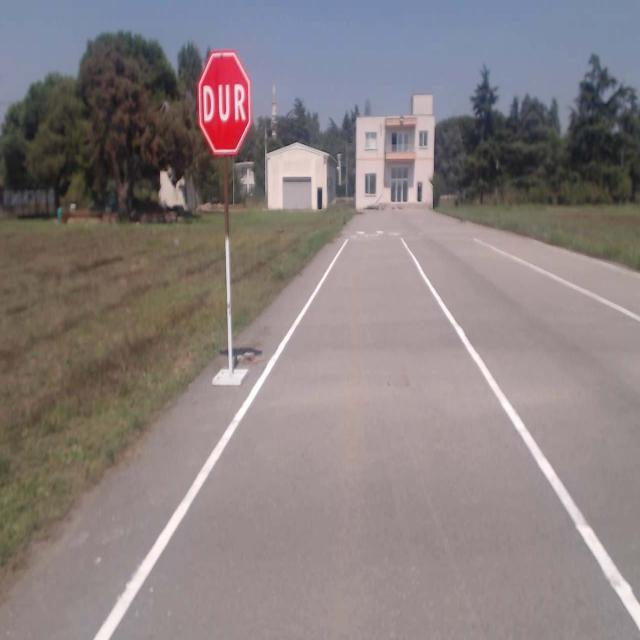dur: (196, 49, 252, 154)
